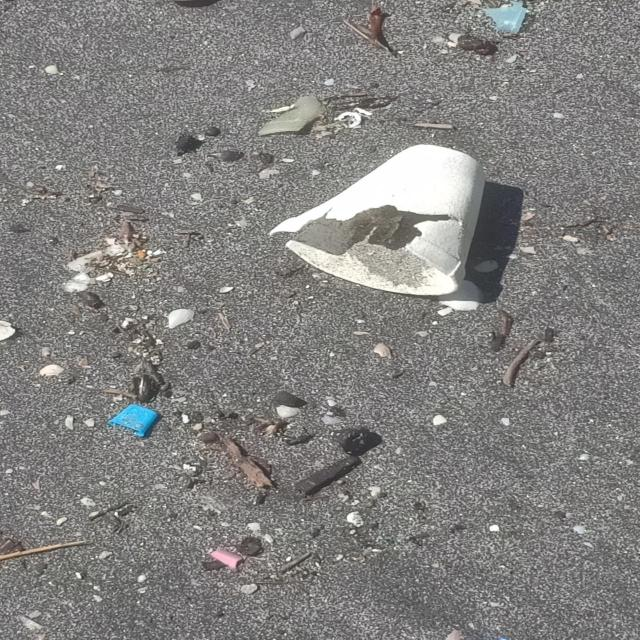styrofoam_waste: (268, 144, 489, 298)
